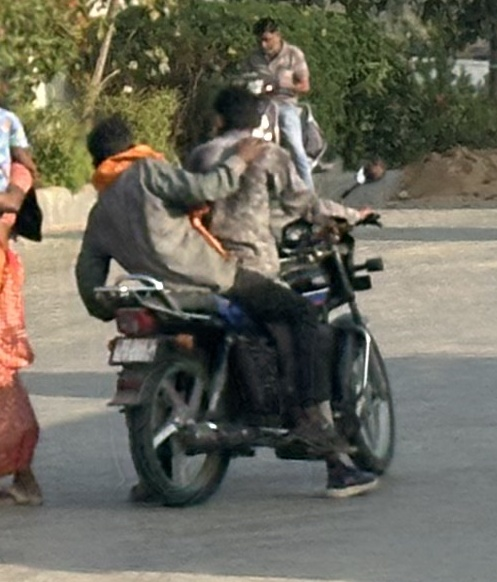BikeWithRider: (64, 74, 409, 515)
NoHelmet: (198, 77, 277, 151), (78, 108, 145, 177)
